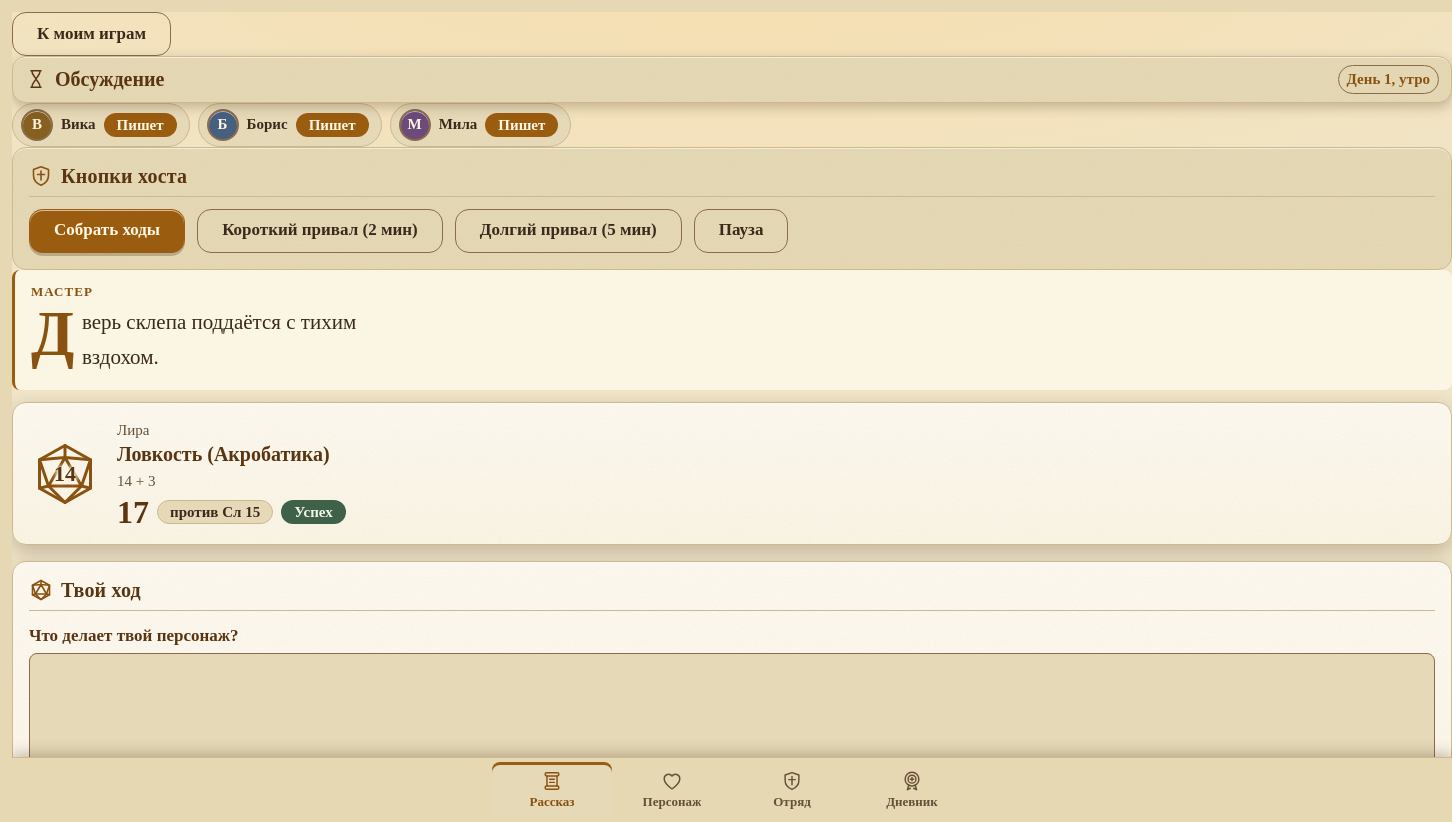
вкладки › «Отряд» показывает здоровье героев
The width and height of the screenshot is (1452, 822).
Click the tab "Отряд" at (792, 790), box [732,762,852,818]
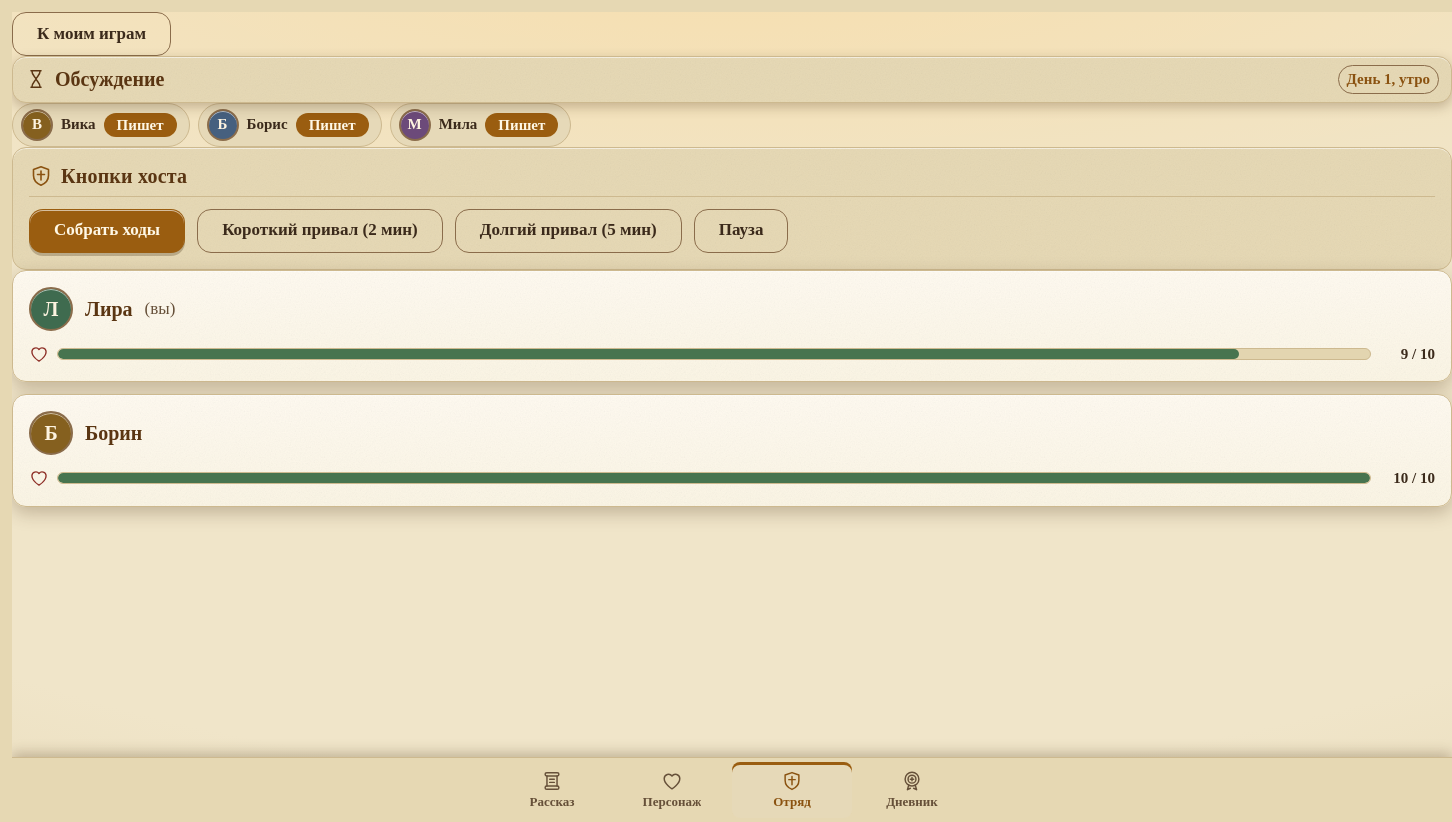
Expected: the element named "Здоровье: Лира" is shown, [29,342,1435,365]
Expected: the element named "Здоровье: Борин" is shown, [29,467,1435,490]
